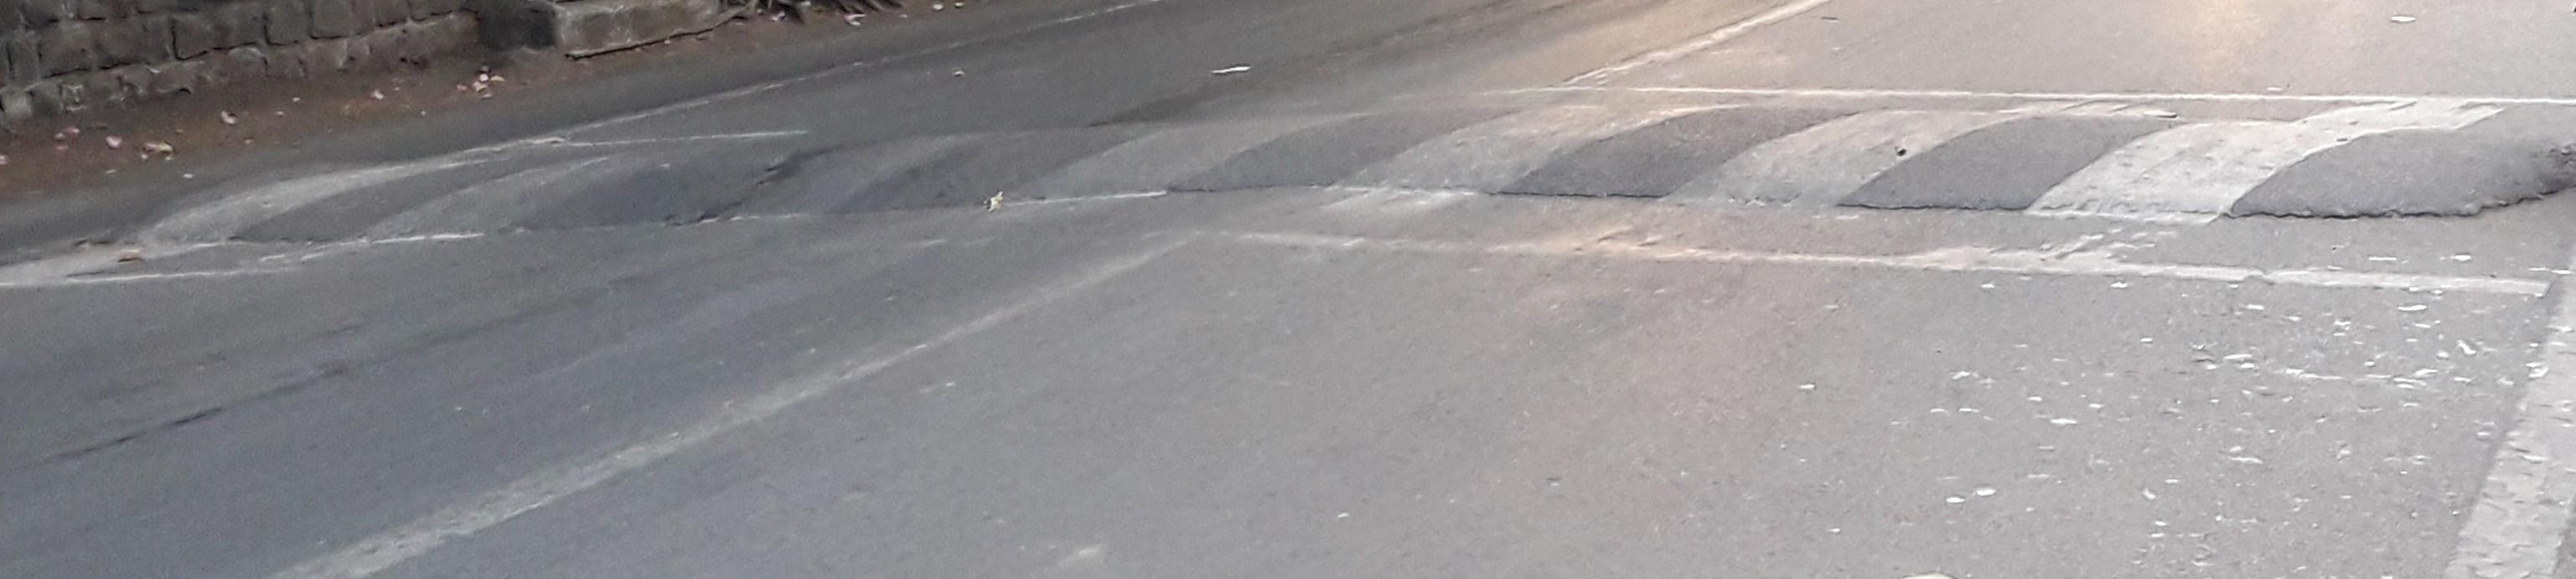speed-bump: (35, 79, 2576, 291)
